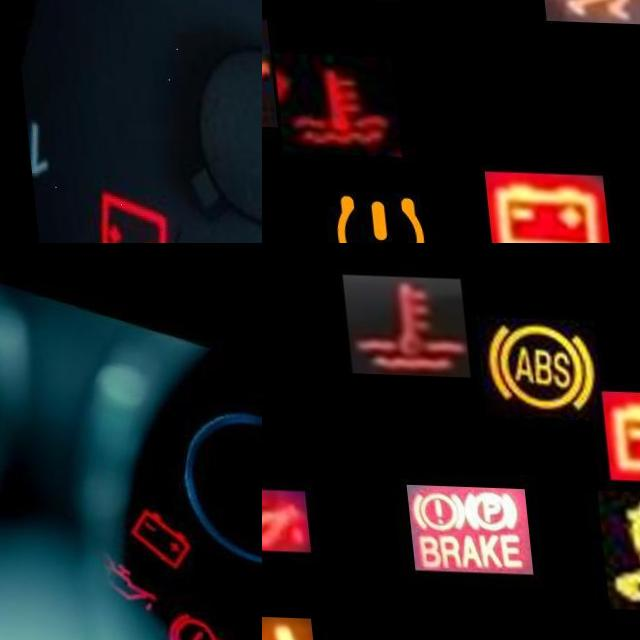Engine cooling system: (266, 51, 392, 154), (341, 273, 467, 376)
